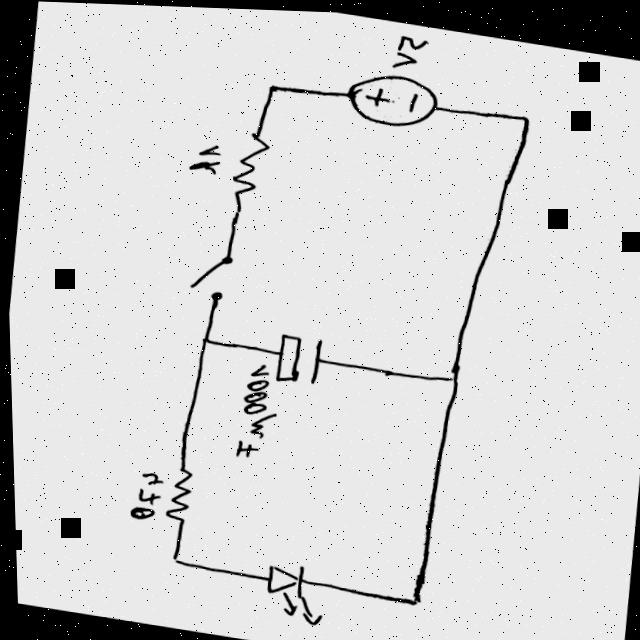capacitor: (269, 328, 325, 387)
diode: (255, 555, 327, 627)
junction: (192, 328, 215, 349), (259, 75, 282, 95), (509, 104, 533, 123), (399, 589, 423, 607), (160, 548, 182, 567), (439, 365, 461, 383)
resistor: (227, 127, 271, 209), (157, 459, 196, 531)
source: (341, 64, 439, 131)
switch: (184, 248, 231, 301)
text: (228, 356, 276, 465), (121, 460, 161, 531), (389, 28, 430, 70), (184, 136, 222, 176)
